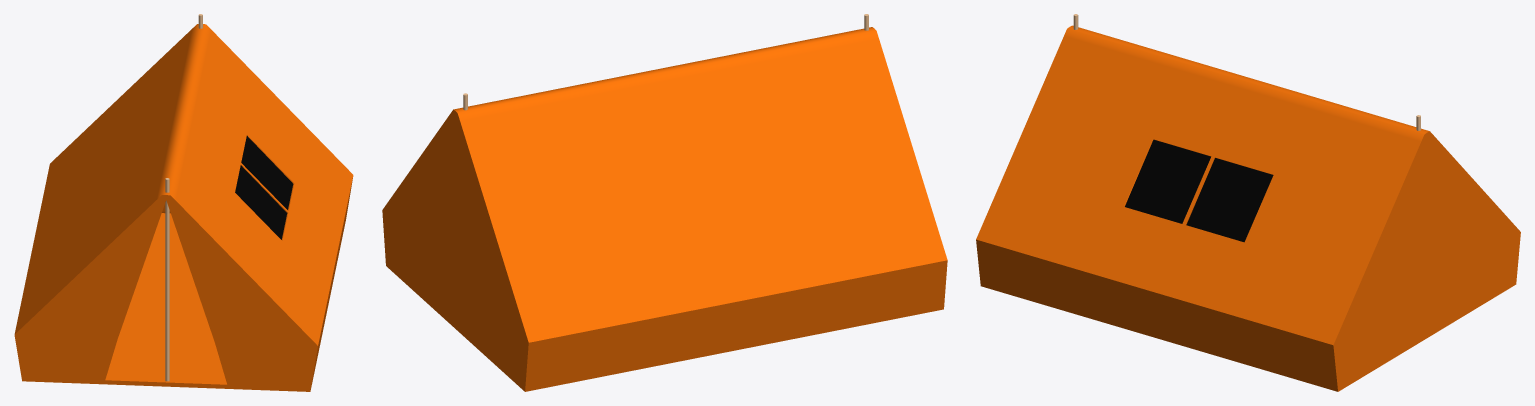
The model's file is tienda_camp.fbx.
The picture shows the model from 3 angles, left to right: view 1: azimuth 30°, elevation 25°; view 2: azimuth 150°, elevation 25°; view 3: azimuth 270°, elevation 25°; orthographic projection. The views are drawn at different scales.
Parts seen in each view (by area): view 1: Box020, tent windows, Cylinder011; view 2: Box020; view 3: Box020, tent windows.
Boxes of the visible parts, x1,y1,x2,y2 form: Box020: (14, 24, 353, 391); tent windows: (235, 136, 293, 239); Cylinder011: (165, 178, 169, 381); Box020: (382, 27, 947, 391); Box020: (976, 25, 1520, 391); tent windows: (1125, 139, 1273, 242).
Size of the model in its own units: 290 by 136 by 305.
Materials: 3 (3 with a texture image).
